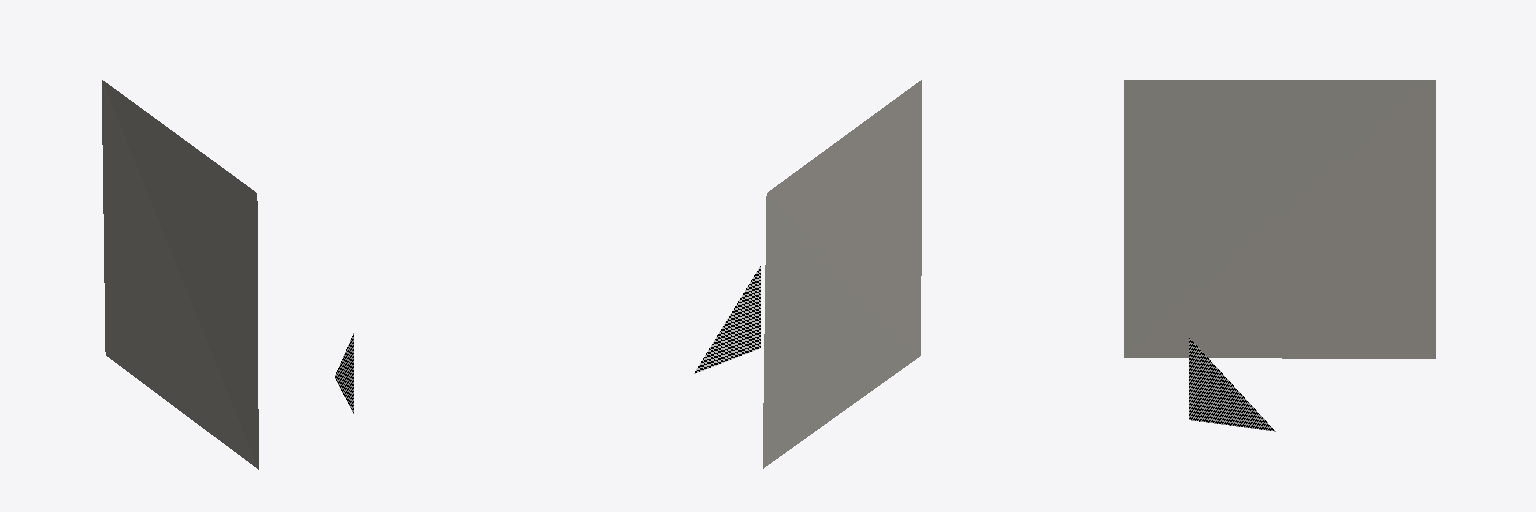
3 renders of one model, left to right at view 1: azimuth 30°, elevation 25°; view 2: azimuth 150°, elevation 25°; view 3: azimuth 270°, elevation 25°, orthographic.
Visible parts, largest first — view 1: shortBox, floor; view 2: shortBox, floor; view 3: shortBox, floor.
Part boxes in pixels (left/top/right/bottom): shortBox: left=102, top=80, right=258, bottom=469; floor: left=335, top=333, right=353, bottom=413; shortBox: left=763, top=80, right=921, bottom=468; floor: left=694, top=266, right=760, bottom=373; shortBox: left=1124, top=80, right=1435, bottom=358; floor: left=1189, top=338, right=1275, bottom=431.
Size of the model in its own units: 1.15 by 1.99 by 2.03.
8 materials, 1 textured.